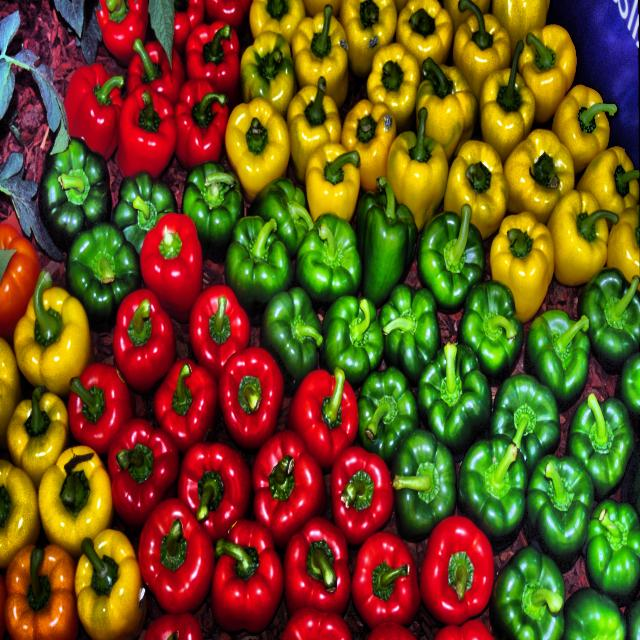capsicum: (254, 14, 612, 213)
green pepper: (318, 235, 488, 454)
red capsicum: (92, 292, 276, 596)
